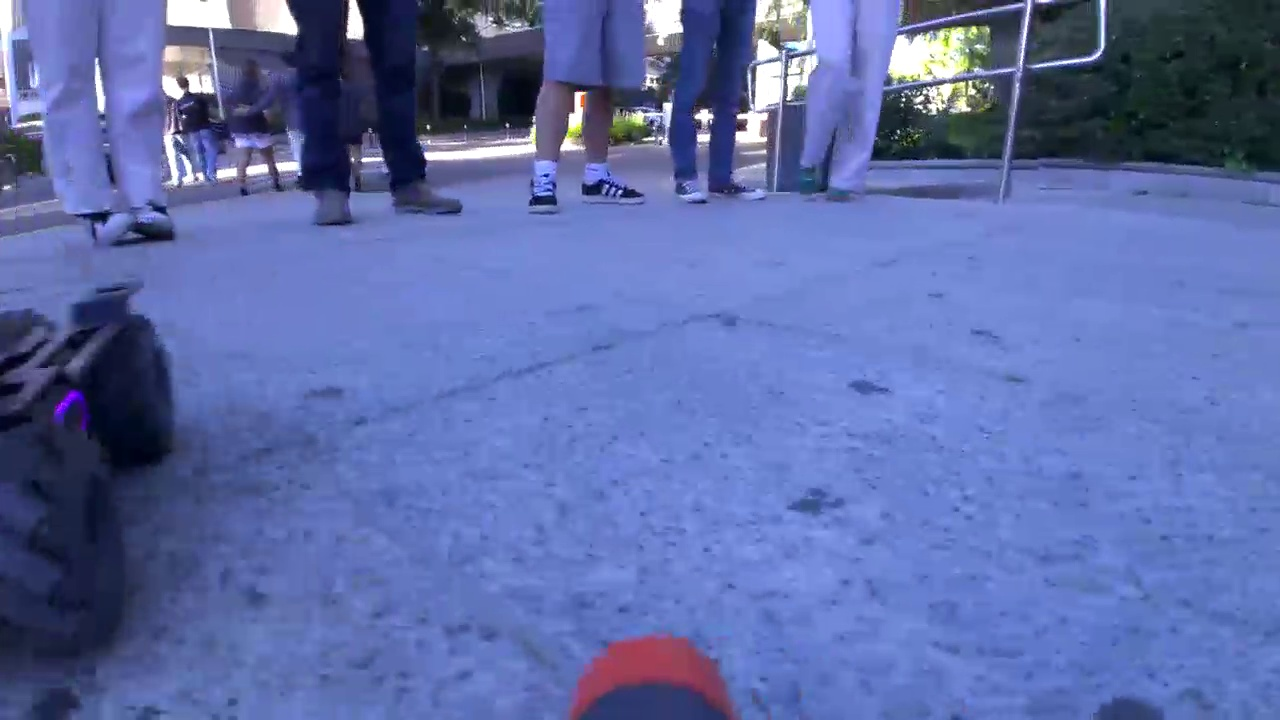robot: (1, 290, 168, 690)
